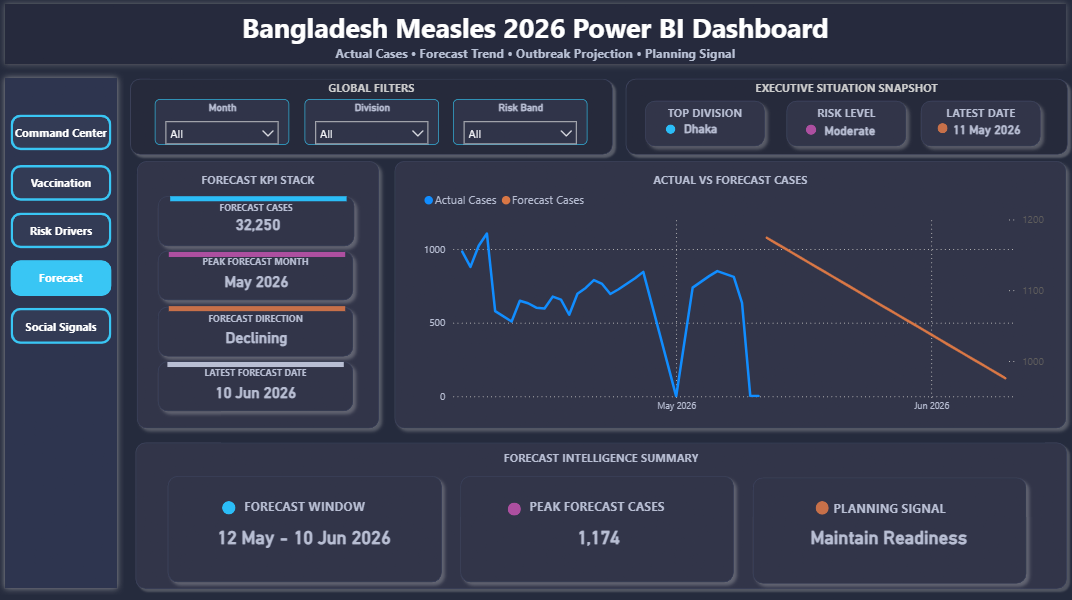

Layout of this report page (visuals, bound fields, positions):
{"tool":"powerbi","page":{"name":"Forecast","canvas":[1280,720],"ordinal":3},"visuals":[{"type":"shape","box":[157.1,187.1,305.7,335.7],"z":0},{"type":"shape","box":[150,90,589.2,105],"z":1000},{"type":"shape","box":[0,0,1279.4,88.2],"z":2000},{"type":"textbox","box":[0.6,10,1279.4,76.5],"z":3000},{"type":"shape","box":[0,88.8,150,623.8],"z":4000},{"type":"actionButton","box":[15,140,120,42.5],"z":5000},{"type":"actionButton","box":[15,200.6,120,42.5],"z":6000},{"type":"actionButton","box":[15,256.9,120,42.5],"z":7000},{"type":"actionButton","box":[15,313.1,120,42.5],"z":8000},{"type":"actionButton","box":[15,370.6,120,43.1],"z":9000},{"type":"slicer","title":"Month","fields":{"Values":["Dim Date.month_name"]},"box":[186.7,120.8,160,54.2],"z":11000},{"type":"slicer","title":"Division ","fields":{"Values":["Dim Division.division"]},"box":[365,120.8,160,54.2],"z":12000},{"type":"slicer","title":"Risk Band","fields":{"Values":["Dim Division.Risk Band"]},"box":[541.7,120.8,160,54.2],"z":13000},{"type":"shape","box":[462.9,187.1,817.1,335.7],"z":14000},{"type":"shape","box":[182.1,228.6,251.4,77.1],"z":15000},{"type":"shape","box":[204.5,222,210,37],"z":16000},{"type":"shape","box":[739.2,90,540.8,105],"z":17000},{"type":"shape","box":[760.8,115,160,71.7],"z":18000},{"type":"shape","box":[929.2,115,160,71.7],"z":19000},{"type":"shape","box":[1089.2,115,160,71.7],"z":20000},{"type":"advanceCardE03760C5AB684758B56AA29F9E6C257B","fields":{"mainMeasure":["_Measures.Top Division by Cases"]},"box":[795,140,83.3,35],"z":21000},{"type":"advanceCardE03760C5AB684758B56AA29F9E6C257B","fields":{"mainMeasure":["_Measures.Executive Risk Level"]},"box":[960.8,142.5,105.8,31.7],"z":22000},{"type":"advanceCardE03760C5AB684758B56AA29F9E6C257B","fields":{"mainMeasure":["_Measures.Latest Reporting Date"]},"box":[1118.3,140,118.3,35],"z":23000},{"type":"shape","box":[795.7,151.4,11.4,11.4],"z":24000},{"type":"shape","box":[960.8,150.8,12.5,12.5],"z":25000},{"type":"shape","box":[1118.5,150,12.3,12.3],"z":26000},{"type":"shape","box":[157.1,522.9,1122.9,188.6],"z":27000},{"type":"shape","box":[182,294,250,76.5],"z":28000},{"type":"shape","box":[182,360,250,77],"z":29000},{"type":"shape","box":[182,425.5,250,77],"z":30000},{"type":"shape","box":[203.5,289.5,210,33],"z":31000},{"type":"shape","box":[203.5,355.5,210,32],"z":32000},{"type":"shape","box":[202.1,419.3,210,35],"z":33000},{"type":"advanceCardE03760C5AB684758B56AA29F9E6C257B","fields":{"mainMeasure":["_Measures.Forecast Cases"]},"box":[204.5,243.6,210,56.4],"z":34000},{"type":"advanceCardE03760C5AB684758B56AA29F9E6C257B","fields":{"mainMeasure":["_Measures.Latest Forecast Date"]},"box":[201.5,437.9,210.6,65.2],"z":35000},{"type":"advanceCardE03760C5AB684758B56AA29F9E6C257B","fields":{"mainMeasure":["_Measures.Peak Forecast Month"]},"box":[203,306.1,209.1,63.6],"z":36000},{"type":"advanceCardE03760C5AB684758B56AA29F9E6C257B","fields":{"mainMeasure":["_Measures.Forecast Direction"]},"box":[203,371.2,209.1,66.7],"z":37000},{"type":"lineChart","fields":{"Category":["Dim Date.date"],"Y2":["_Measures.Forecast Cases"],"Y":["_Measures.Actual Cases"]},"box":[501.4,221.4,748.6,282.9],"z":38000},{"type":"shape","box":[193.1,562.3,343.8,143.8],"z":39000},{"type":"shape","box":[541.5,562.3,343.1,143.8],"z":40000},{"type":"advanceCardE03760C5AB684758B56AA29F9E6C257B","fields":{"mainMeasure":["_Measures.Forecast Window"]},"box":[203.1,588.5,322.3,110],"z":41000},{"type":"shape","box":[890,563.1,343.1,143.8],"z":42000},{"type":"advanceCardE03760C5AB684758B56AA29F9E6C257B","fields":{"mainMeasure":["_Measures.Peak Forecast Cases"]},"box":[551.5,588.5,326.9,110],"z":43000},{"type":"advanceCardE03760C5AB684758B56AA29F9E6C257B","fields":{"mainMeasure":["_Measures.Planning Signal"]},"box":[898.5,588.5,324.6,110],"z":44000},{"type":"shape","box":[266.9,600.8,16.2,16.2],"z":45000},{"type":"shape","box":[606,601,16,16],"z":46000},{"type":"shape","box":[973.6,600.7,15.7,16.4],"z":47000}]}

Visuals, with their boxes in screenshot pixels (x1, y1, x2, y2), scaled from the page's 1280x720 canvas onto the 1072x600 screenshot:
shape: box(132, 156, 388, 436)
shape: box(126, 75, 619, 162)
shape: box(0, 0, 1071, 74)
textbox: box(1, 8, 1071, 72)
shape: box(0, 74, 126, 594)
actionButton: box(13, 117, 113, 152)
actionButton: box(13, 167, 113, 203)
actionButton: box(13, 214, 113, 250)
actionButton: box(13, 261, 113, 296)
actionButton: box(13, 309, 113, 345)
"Month" slicer: box(156, 101, 290, 146)
"Division " slicer: box(306, 101, 440, 146)
"Risk Band" slicer: box(454, 101, 588, 146)
shape: box(388, 156, 1071, 436)
shape: box(153, 190, 363, 255)
shape: box(171, 185, 347, 216)
shape: box(619, 75, 1071, 162)
shape: box(637, 96, 771, 156)
shape: box(778, 96, 912, 156)
shape: box(912, 96, 1046, 156)
advanceCardE03760C5AB684758B56AA29F9E6C257B - _Measures.Top Division by Cases: box(666, 117, 736, 146)
advanceCardE03760C5AB684758B56AA29F9E6C257B - _Measures.Executive Risk Level: box(805, 119, 893, 145)
advanceCardE03760C5AB684758B56AA29F9E6C257B - _Measures.Latest Reporting Date: box(937, 117, 1036, 146)
shape: box(666, 126, 676, 136)
shape: box(805, 126, 815, 136)
shape: box(937, 125, 947, 135)
shape: box(132, 436, 1071, 593)
shape: box(152, 245, 362, 309)
shape: box(152, 300, 362, 364)
shape: box(152, 355, 362, 419)
shape: box(170, 241, 346, 269)
shape: box(170, 296, 346, 323)
shape: box(169, 349, 345, 379)
advanceCardE03760C5AB684758B56AA29F9E6C257B - _Measures.Forecast Cases: box(171, 203, 347, 250)
advanceCardE03760C5AB684758B56AA29F9E6C257B - _Measures.Latest Forecast Date: box(169, 365, 345, 419)
advanceCardE03760C5AB684758B56AA29F9E6C257B - _Measures.Peak Forecast Month: box(170, 255, 345, 308)
advanceCardE03760C5AB684758B56AA29F9E6C257B - _Measures.Forecast Direction: box(170, 309, 345, 365)
lineChart - Dim Date.date x _Measures.Forecast Cases: box(420, 184, 1047, 420)
shape: box(162, 469, 450, 588)
shape: box(454, 469, 741, 588)
advanceCardE03760C5AB684758B56AA29F9E6C257B - _Measures.Forecast Window: box(170, 490, 440, 582)
shape: box(745, 469, 1033, 589)
advanceCardE03760C5AB684758B56AA29F9E6C257B - _Measures.Peak Forecast Cases: box(462, 490, 736, 582)
advanceCardE03760C5AB684758B56AA29F9E6C257B - _Measures.Planning Signal: box(752, 490, 1024, 582)
shape: box(224, 501, 237, 514)
shape: box(508, 501, 521, 514)
shape: box(815, 501, 829, 514)
